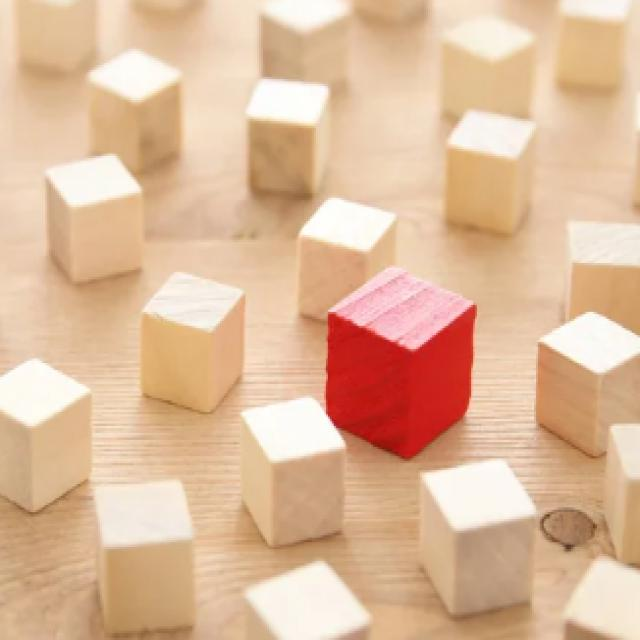red cube: (327, 261, 477, 460)
